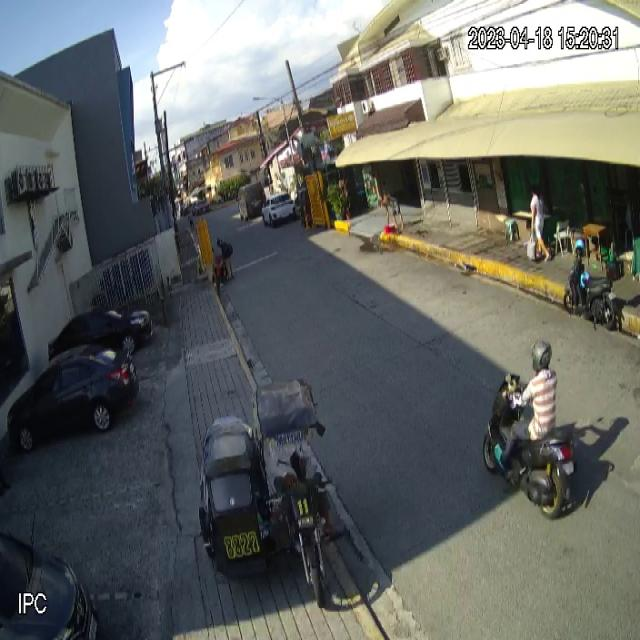Car: (7, 340, 141, 456)
Motorcycle: (481, 372, 576, 524), (564, 251, 626, 333)
Tricycle: (197, 375, 331, 611)
